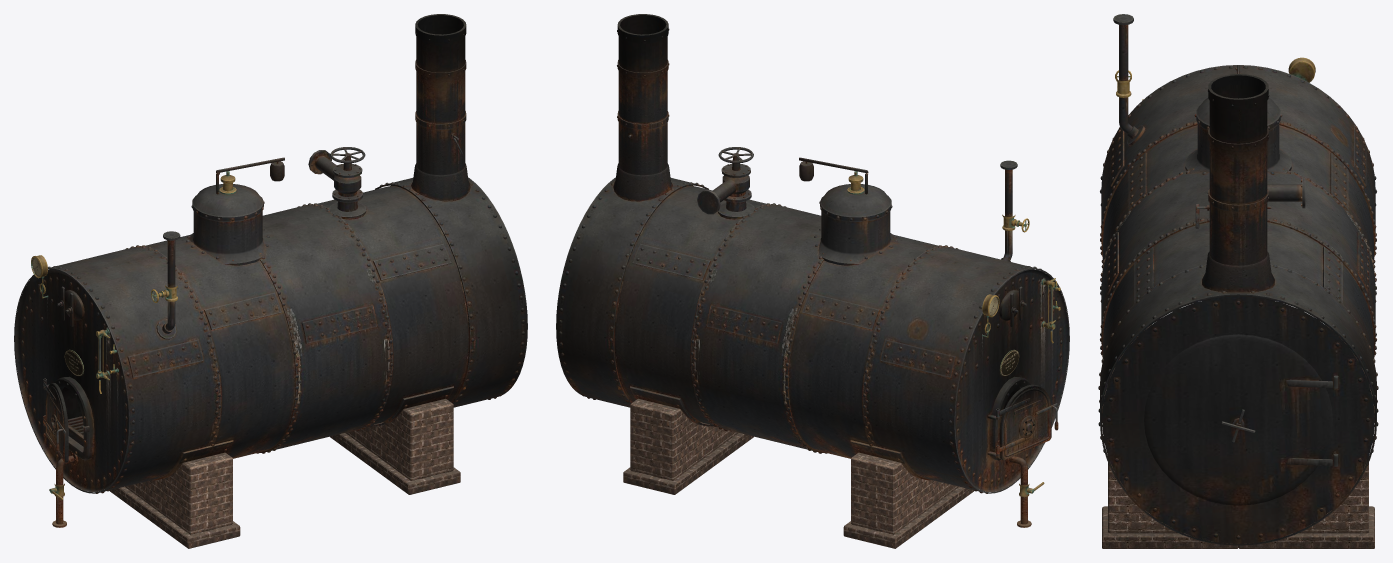
The model's file is prop_boiler.glb.
3 views of the same model, side by side, from view 1: azimuth 30°, elevation 25°; view 2: azimuth 150°, elevation 25°; view 3: azimuth 270°, elevation 25° (orthographic). The views are drawn at different scales.
Visible parts, largest first — view 1: Body, FireDoor; view 2: Body, FireDoor; view 3: Body.
Boxes of the visible parts, <box> form: Body: <box>14,14,527,548</box>; FireDoor: <box>43,379,68,462</box>; Body: <box>556,14,1069,548</box>; FireDoor: <box>996,384,1058,460</box>; Body: <box>1098,14,1378,548</box>.
Size of the model in its own units: 5.91 by 5.2 by 2.73.
Materials: 3 (3 with a texture image).
